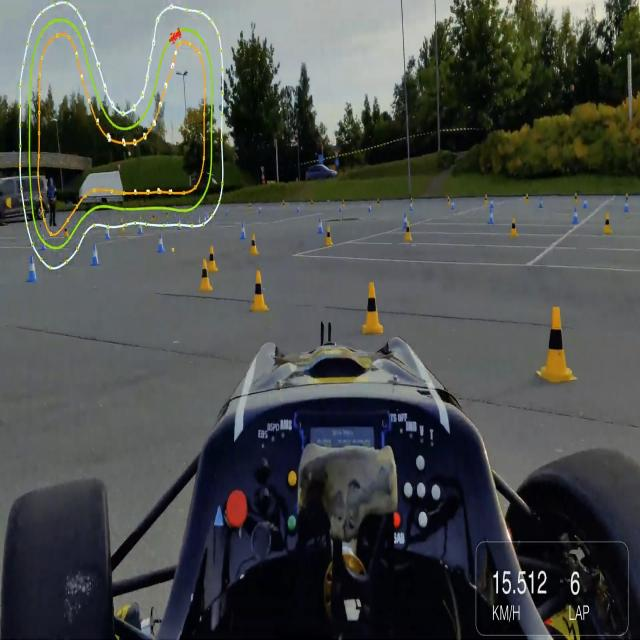blue_cone: (25, 255, 40, 283), (91, 242, 101, 268), (156, 231, 165, 253), (572, 205, 579, 227), (240, 221, 247, 241), (317, 217, 323, 236), (136, 222, 144, 236), (39, 237, 46, 253), (105, 223, 111, 241), (488, 207, 494, 225), (403, 210, 408, 229), (538, 198, 544, 210), (624, 199, 629, 213), (583, 197, 588, 209), (450, 199, 455, 210), (490, 198, 494, 209), (297, 205, 301, 214), (368, 205, 372, 213), (410, 204, 414, 212), (338, 206, 342, 213), (259, 207, 262, 214)
yellow_cone: (534, 301, 578, 386), (359, 274, 386, 336), (248, 265, 270, 314), (197, 258, 214, 292), (206, 242, 220, 276), (602, 211, 614, 236), (509, 217, 520, 239), (249, 233, 260, 255), (326, 226, 334, 247), (405, 222, 413, 242), (63, 226, 70, 239), (119, 216, 124, 230), (574, 193, 579, 205), (341, 199, 346, 209), (484, 193, 488, 205), (447, 196, 451, 207), (525, 193, 529, 204), (626, 192, 630, 202), (410, 197, 414, 205), (377, 199, 380, 208)
